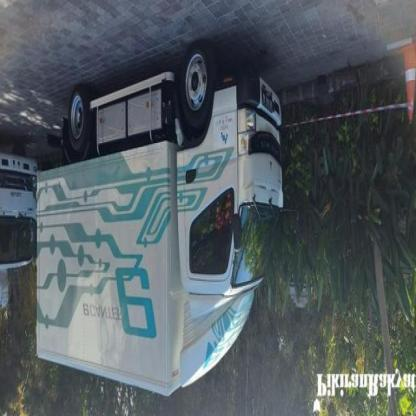truck: (37, 49, 283, 396)
